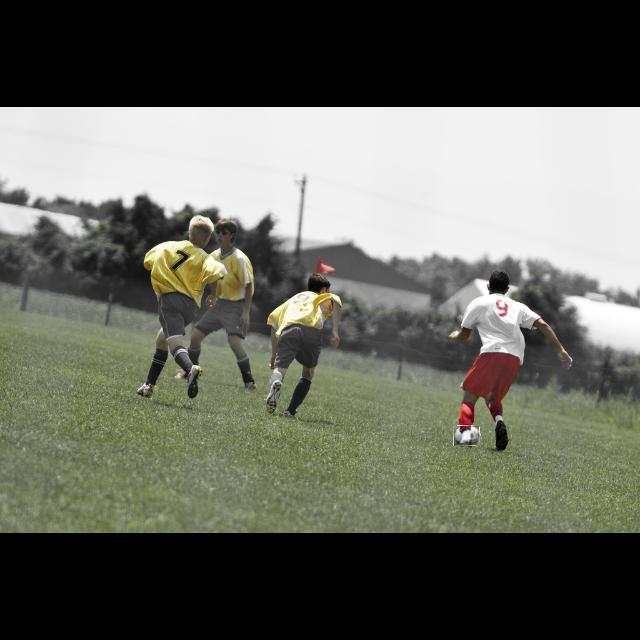Football: (454, 426, 480, 446)
